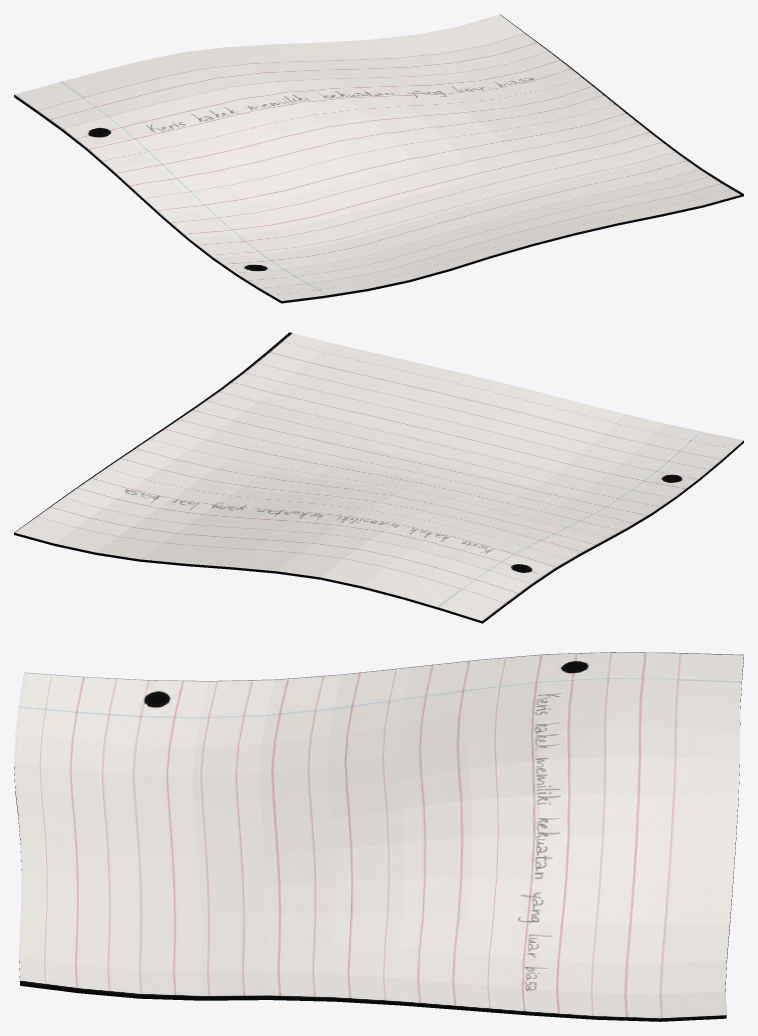
File: Kertas keriss.fbx
The picture shows the model from 3 angles, top to bottom: view 1: azimuth 30°, elevation 25°; view 2: azimuth 150°, elevation 25°; view 3: azimuth 270°, elevation 25°; orthographic projection. The views are drawn at different scales.
Parts seen in each view (by area): view 1: kertas keris; view 2: kertas keris; view 3: kertas keris.
Part boxes in pixels (left/top/right/bottom): kertas keris: left=14, top=14, right=743, bottom=303; kertas keris: left=14, top=332, right=743, bottom=623; kertas keris: left=14, top=652, right=743, bottom=1021.
Bounding box in the file's own units: 211 × 18.52 × 205.
Materials: 1 (1 with a texture image).
